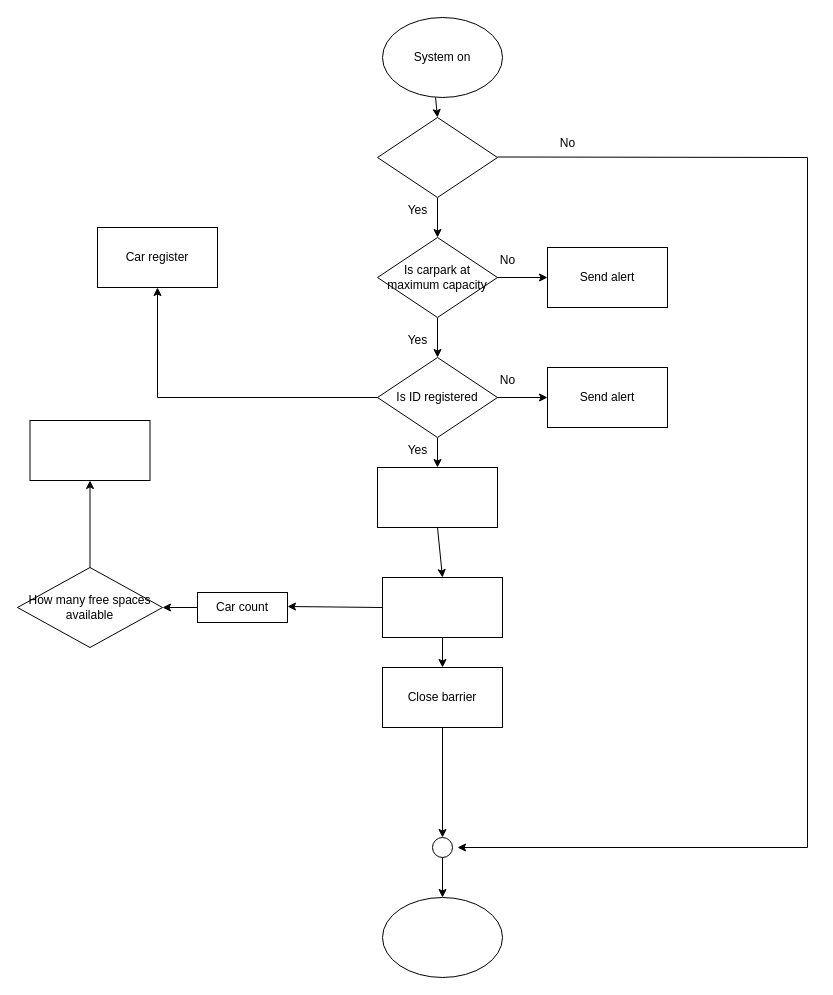
Image size: 833x995. Some labels were removed from this diagram. Each missing label, with the centre of its shape:
"Add 1 to car count" belongs at pixel 442 607.
"Display (100 cars minus car count)" belongs at pixel 89 450.
"Is car on sensor" belongs at pixel 437 157.
"Open Barrier" belongs at pixel 437 497.
"System end" belongs at pixel 442 937.
